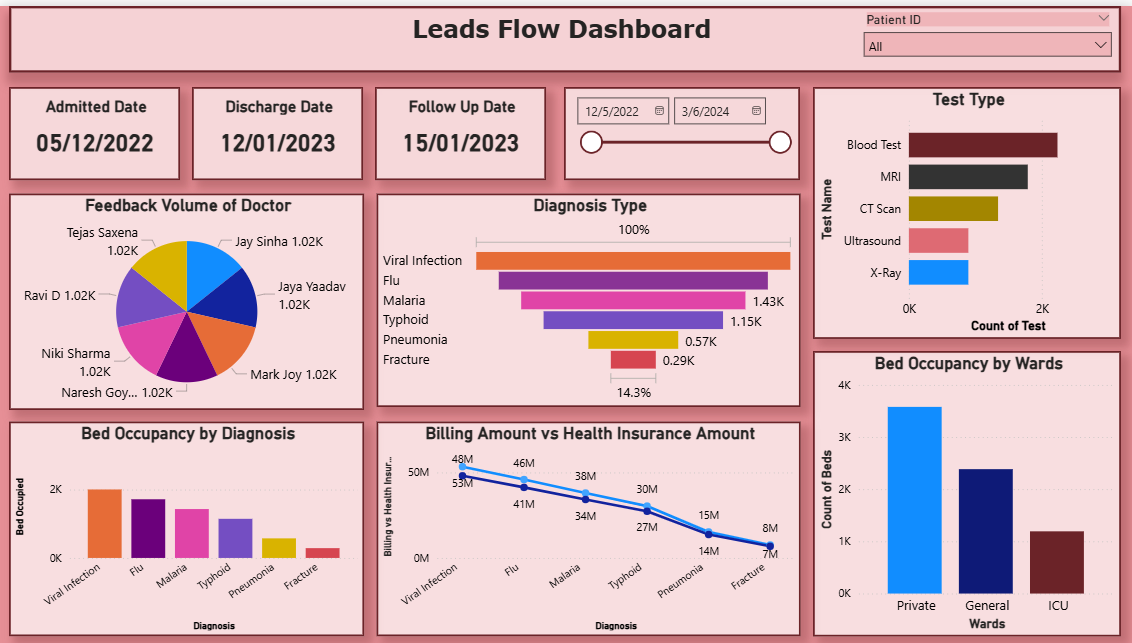

Layout of this report page (visuals, bound fields, positions):
{"tool":"powerbi","page":{"name":"Page 1","canvas":[1280,720],"ordinal":0},"visuals":[{"type":"textbox","box":[9.4,0,1256.7,75.6],"z":0},{"type":"card","title":"Admitted Date","fields":{"Values":["Sheet1.Admit_Date"]},"box":[9.6,91.1,193.3,105.4],"z":1},{"type":"card","title":"Discharge Date","fields":{"Values":["Sheet1.Discharge_Date"]},"box":[217.1,91.6,193.2,105.6],"z":2},{"type":"slicer","fields":{"Values":["Sheet1.Patient_ID"]},"box":[966.1,1.7,300,74.6],"z":3},{"type":"card","title":"Follow Up Date","fields":{"Values":["Sheet1.Followup Date"]},"box":[424.2,91.6,193.2,105.6],"z":4},{"type":"slicer","fields":{"Values":["Sheet1.Admit_Date"]},"box":[637.4,91.6,266.9,105.6],"z":5},{"type":"columnChart","title":"Bed Occupancy by Wards","fields":{"Category":["Sheet1.Bed_Occupancy"],"Y":["Sheet1.Bed_Occupancy"]},"box":[918.7,389.8,348.3,322.7],"z":6},{"type":"pieChart","title":"Feedback Volume of Doctor","fields":{"Category":["Sheet1.Doctor"],"Y":["Sheet1.Feedback"]},"box":[9.6,212.5,401,244.4],"z":7},{"type":"funnel","title":"Diagnosis Type","fields":{"Category":["Sheet1.Diagnosis"],"Y":["Sheet1.Diagnosis"]},"box":[425,212.5,479.3,241.2],"z":8},{"type":"lineChart","title":"Billing Amount vs Health Insurance Amount","fields":{"Category":["Sheet1.Diagnosis"],"Y":["Sheet1.Billing Amount","Sheet1.Health Insurance Amount"]},"box":[425,469.7,479.3,242.8],"z":9},{"type":"clusteredColumnChart","title":"Bed Occupancy by Diagnosis","fields":{"Category":["Sheet1.Diagnosis"],"Y":["Sheet1.Bed_Occupancy"]},"box":[9.6,469.7,401,242.8],"z":10},{"type":"clusteredBarChart","title":"Test Type","fields":{"Category":["Sheet1.Test"],"Y":["Sheet1.Test"]},"box":[918.7,91.1,348.3,284.4],"z":11}]}

Visuals, with their boxes in screenshot pixels (x1, y1, x2, y2), scaled from the page's 1280x720 canvas onto the 1132x643 screenshot:
textbox: [8,0,1120,68]
"Admitted Date" card: [8,81,179,175]
"Discharge Date" card: [192,82,363,176]
slicer - Sheet1.Patient_ID: [854,2,1120,68]
"Follow Up Date" card: [375,82,546,176]
slicer - Sheet1.Admit_Date: [564,82,800,176]
"Bed Occupancy by Wards" columnChart: [812,348,1121,636]
"Feedback Volume of Doctor" pieChart: [8,190,363,408]
"Diagnosis Type" funnel: [376,190,800,405]
"Billing Amount vs Health Insurance Amount" lineChart: [376,419,800,636]
"Bed Occupancy by Diagnosis" clusteredColumnChart: [8,419,363,636]
"Test Type" clusteredBarChart: [812,81,1121,335]
